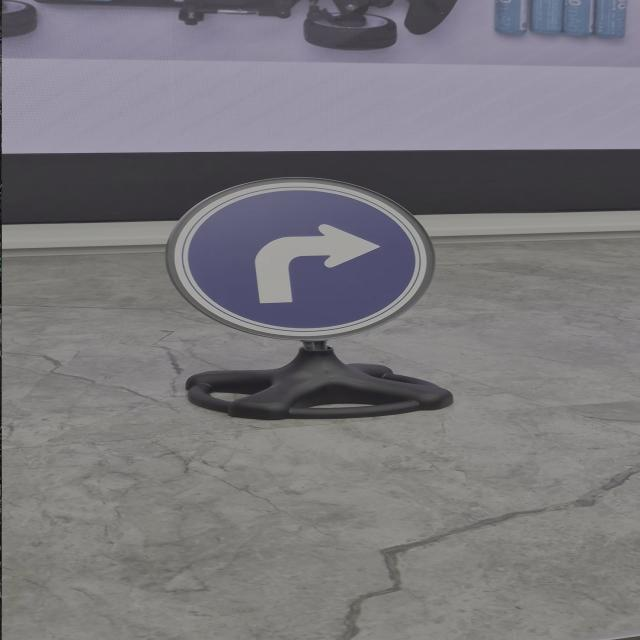right_dierection: (141, 165, 491, 378)
